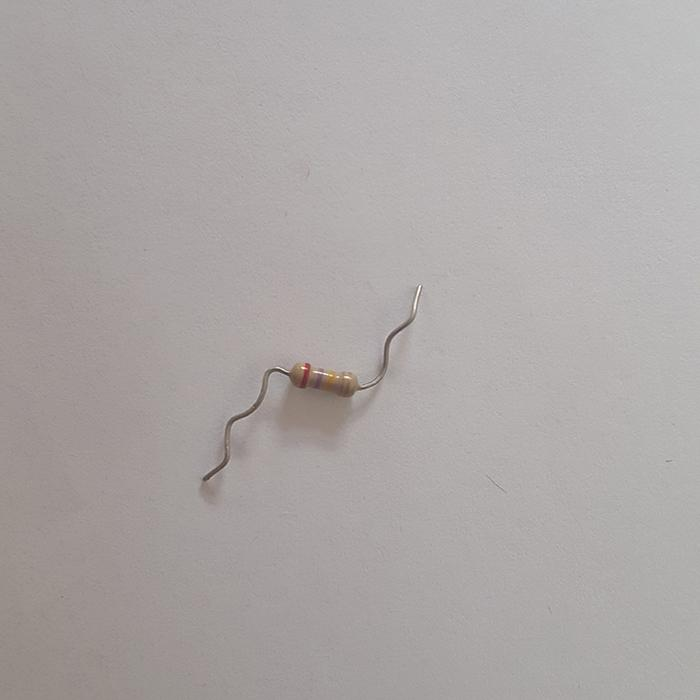resistor: (288, 360, 359, 397)
